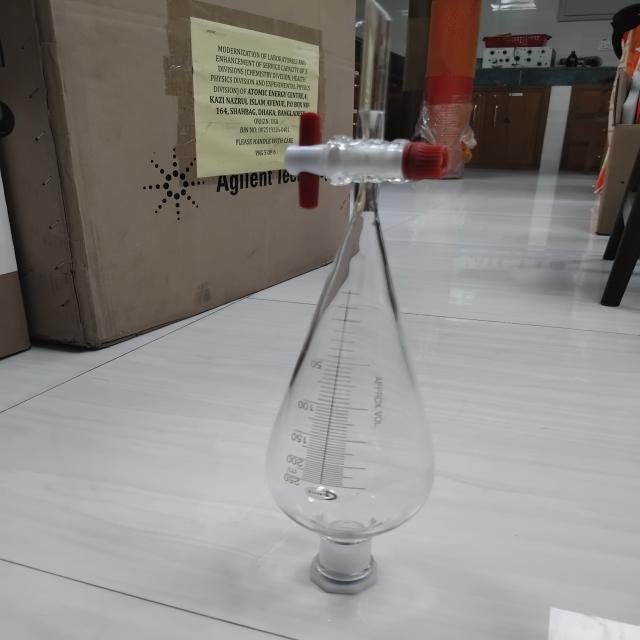Separating_Funnel: (225, 0, 512, 625)
